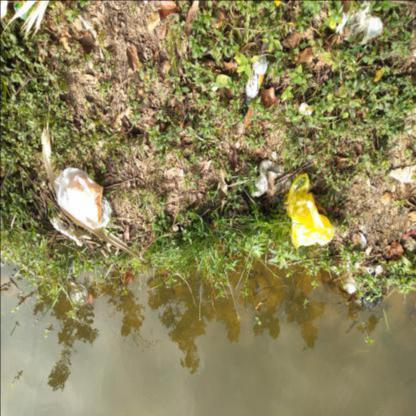Bottle cap: (242, 55, 267, 111)
Can: (14, 1, 37, 20)
Lid: (70, 284, 89, 306)
Other litter: (66, 174, 103, 224)
Plastic bag - wrapper: (283, 171, 334, 250), (54, 168, 112, 229), (335, 1, 383, 44), (254, 160, 284, 197), (341, 271, 355, 294), (364, 265, 382, 275)
